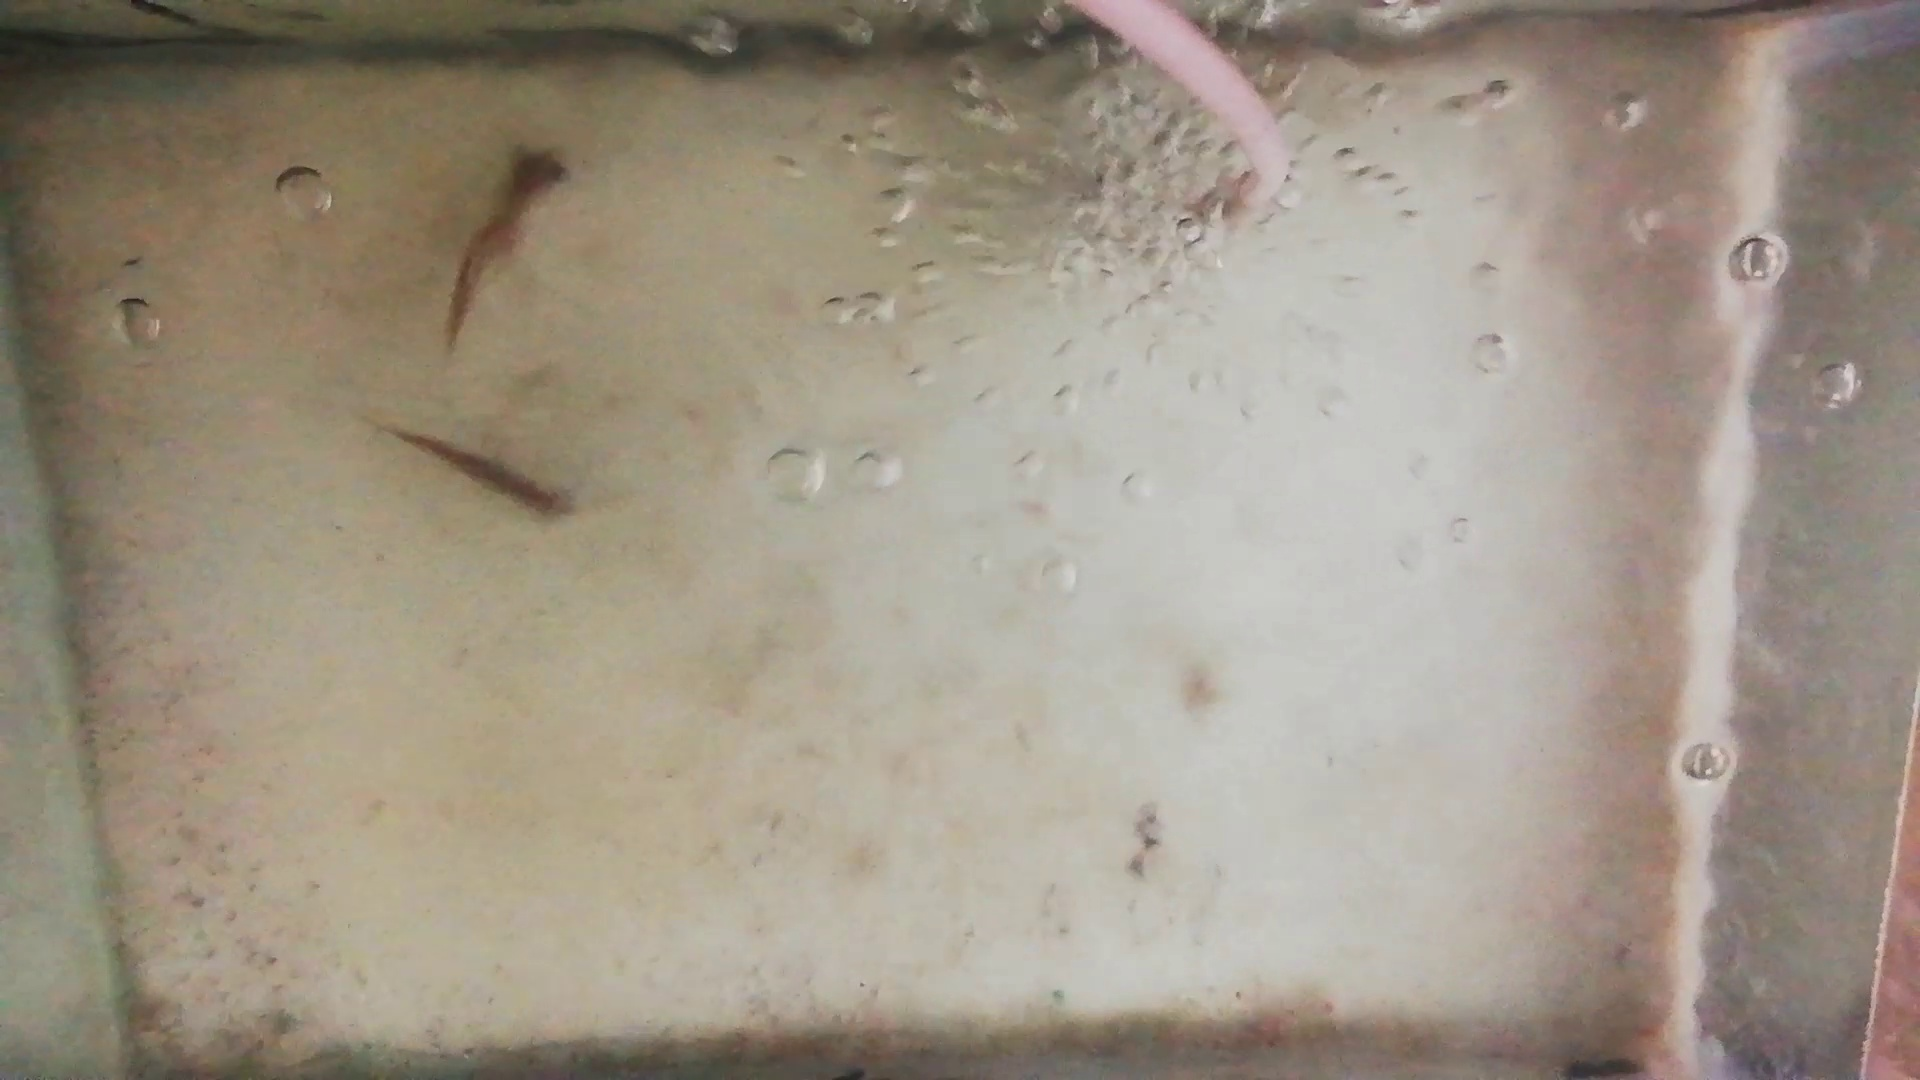fish: (438, 142, 568, 351), (375, 425, 572, 526)
